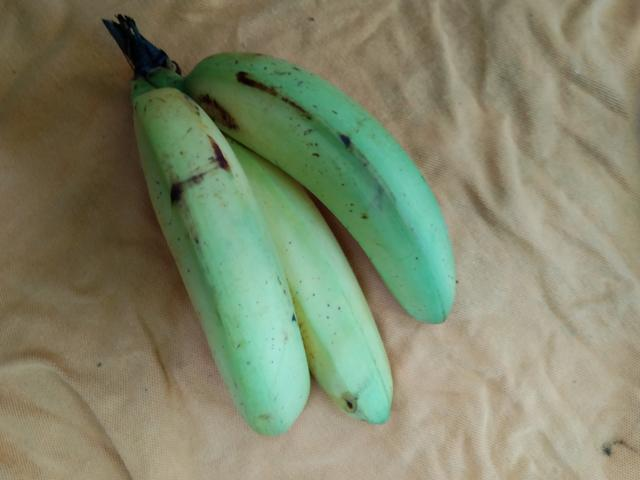freshripe: (248, 157, 397, 427)
ripe: (191, 48, 470, 326), (133, 84, 311, 435)
